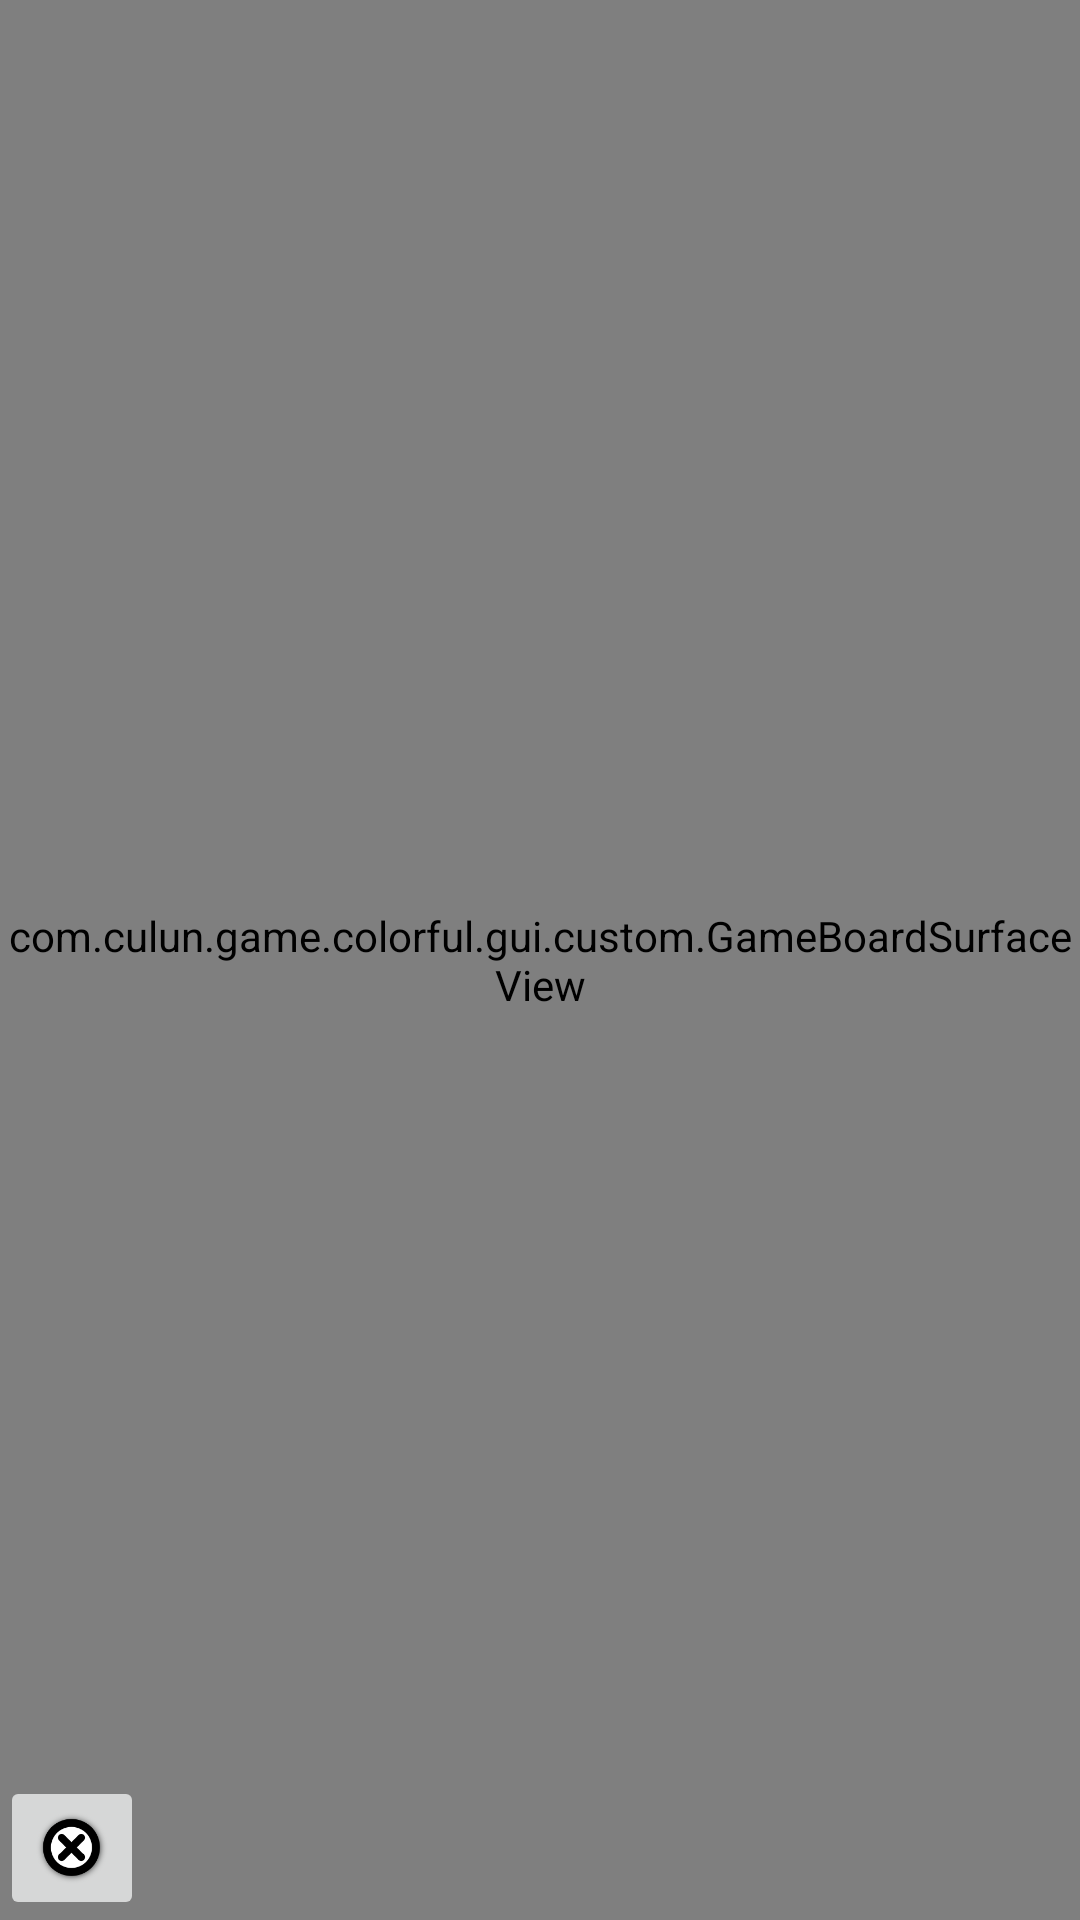

Where icons sit on this 1080w x 1920h app screen, as (x1, y1, x2, y2):
close: (12, 1794, 132, 1902)
